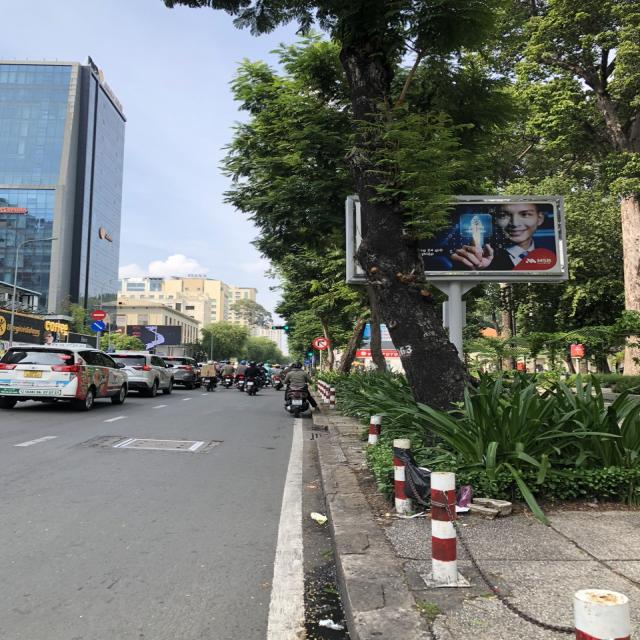Bien bao cam re phai: (309, 335, 331, 350)
